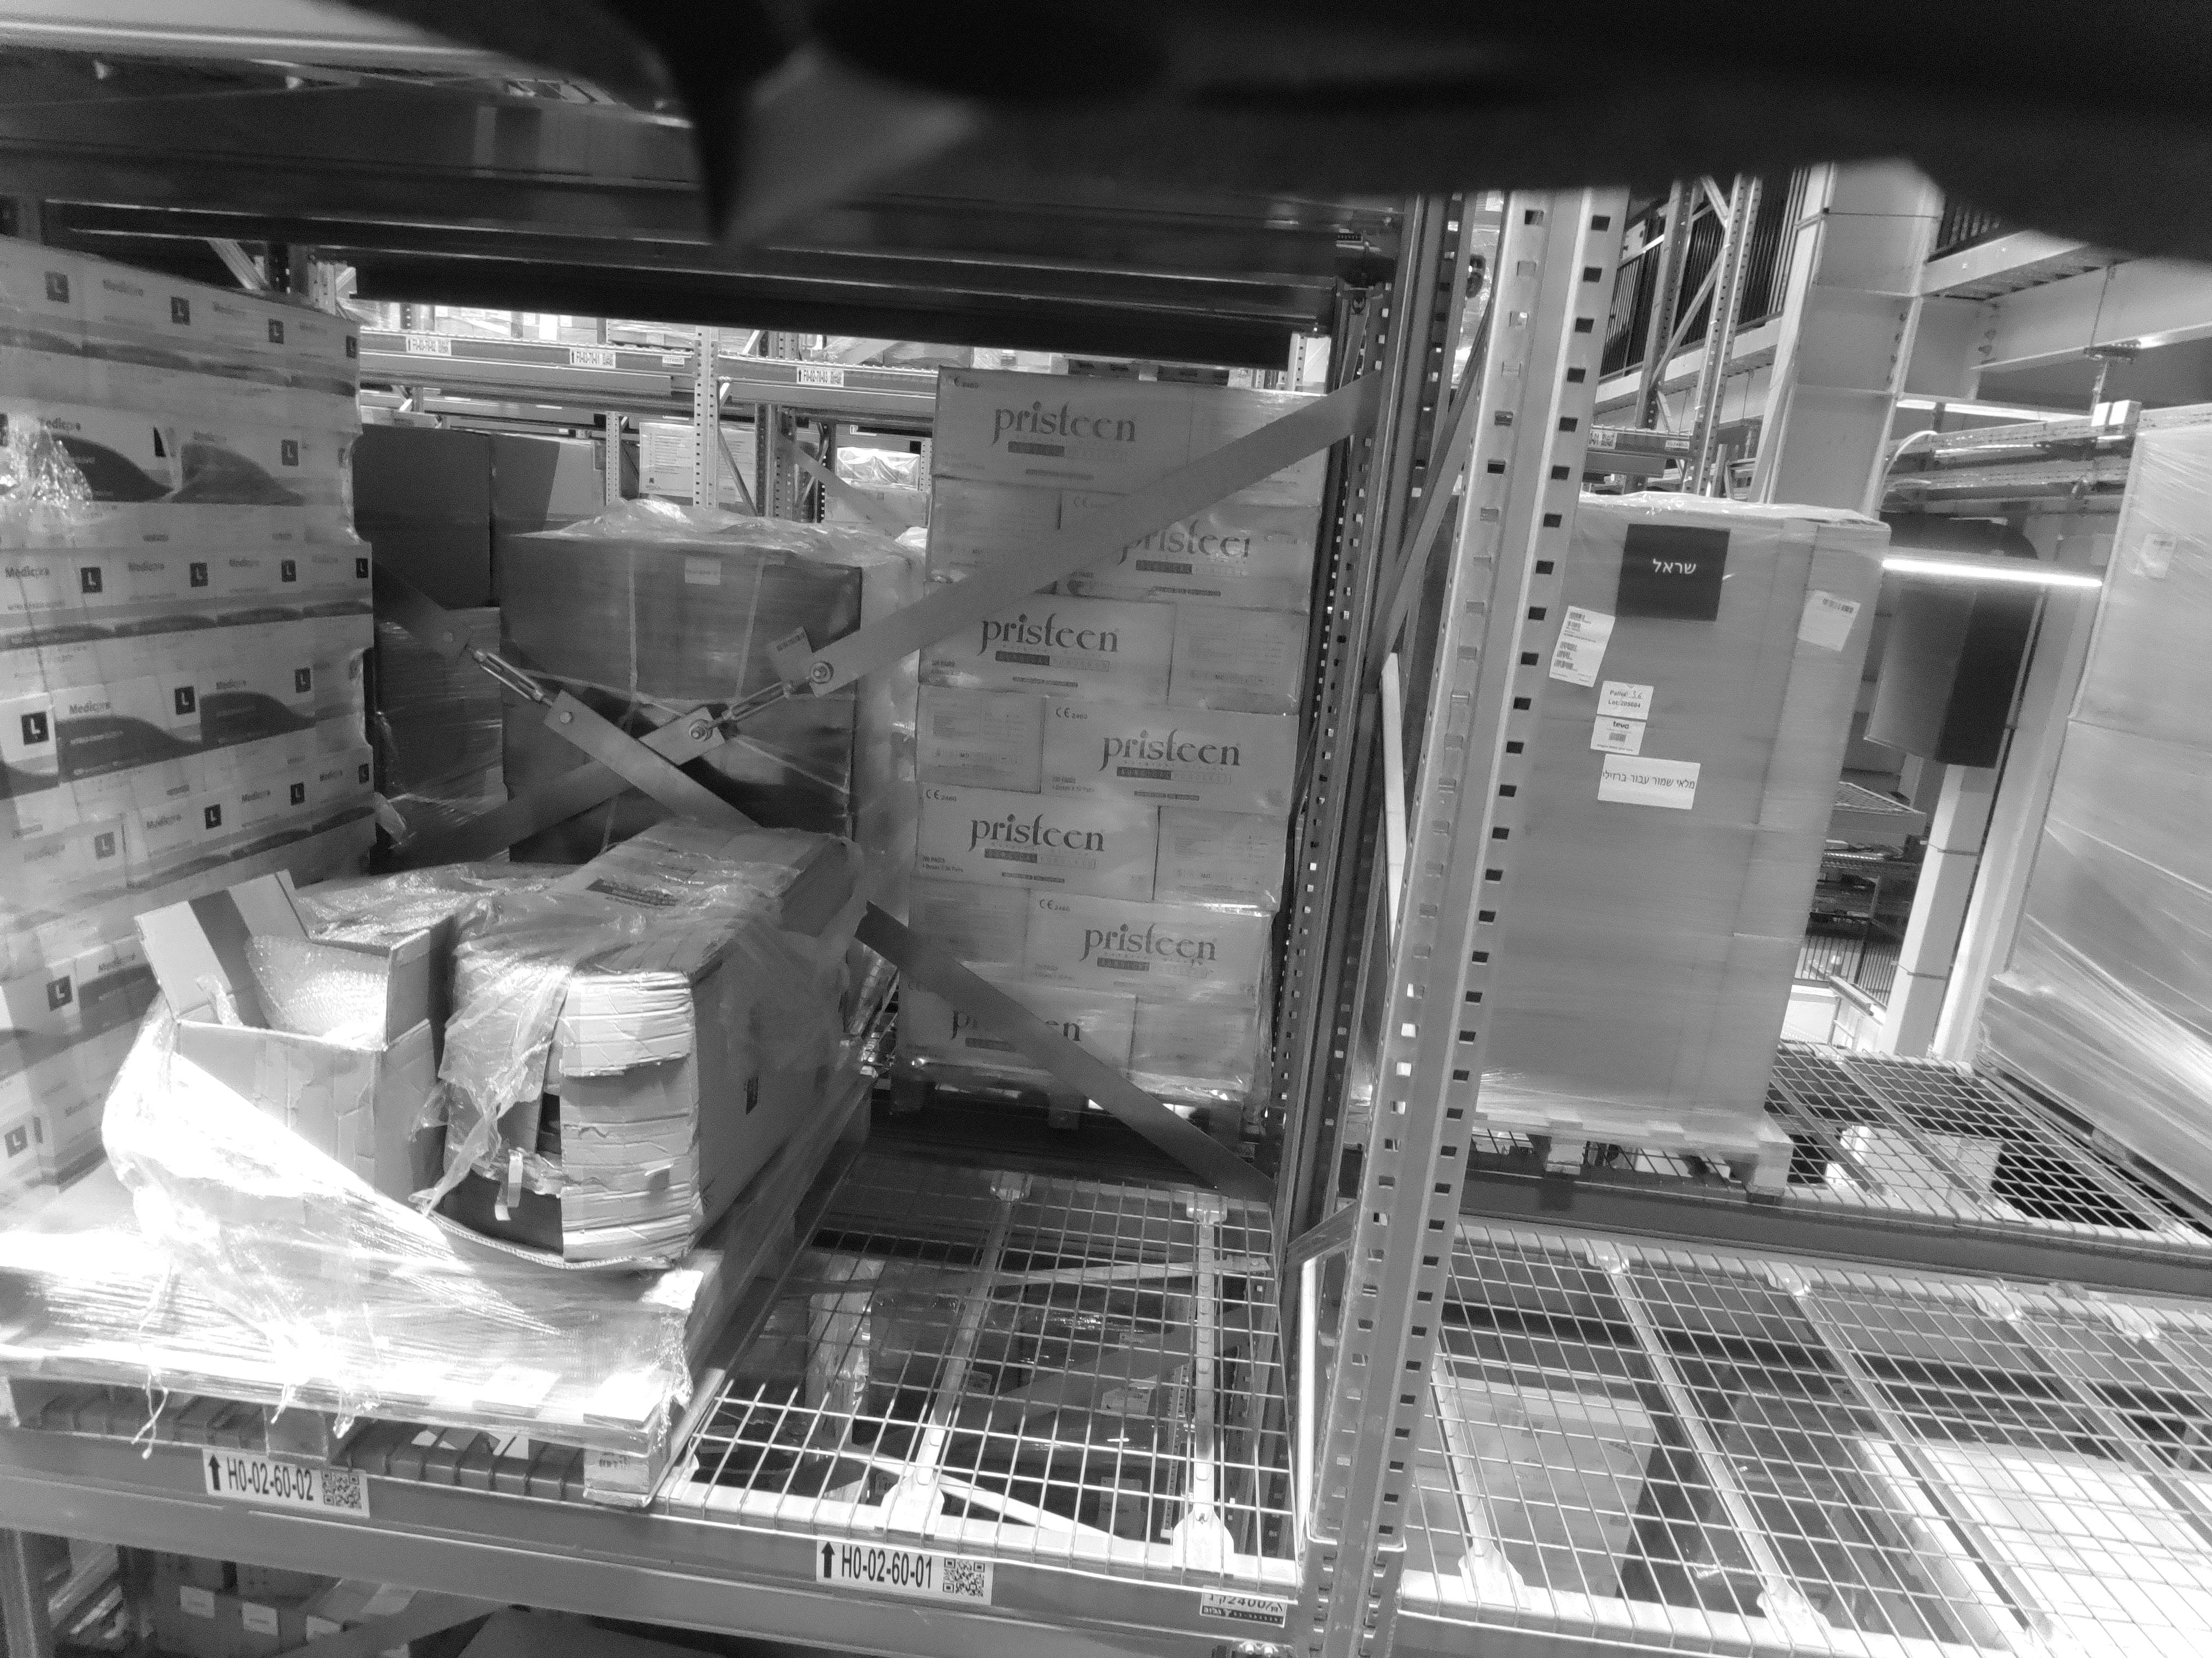empty-shelf: (819, 286, 1254, 1513), (1952, 411, 2209, 1486), (1641, 212, 1818, 1461)
